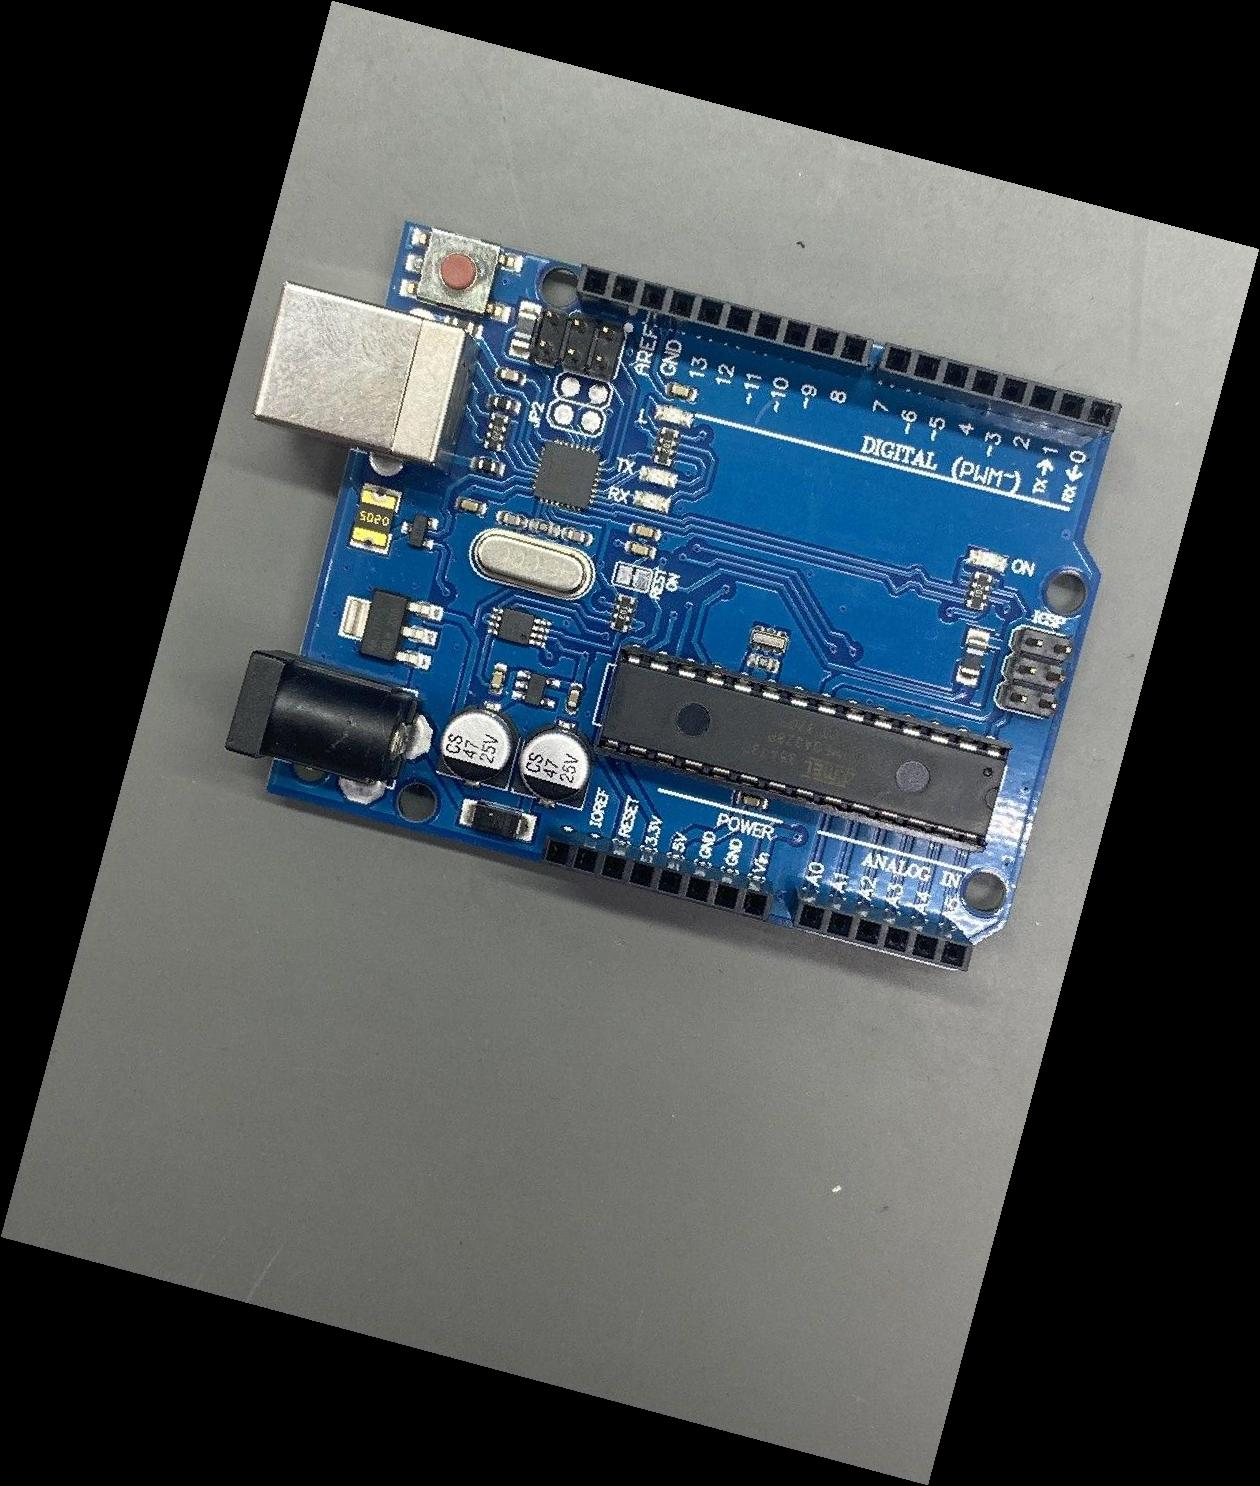ATmega328 chip: (596, 647, 1012, 851)
Arduino board: (224, 220, 1121, 971)
USB: (252, 280, 482, 474)
capacitor: (510, 716, 594, 807), (436, 704, 520, 790)
pins: (574, 261, 874, 381), (870, 341, 1121, 440), (540, 824, 775, 924), (786, 885, 975, 972)
resistor: (965, 570, 994, 611), (609, 592, 636, 634), (482, 412, 510, 452), (654, 426, 679, 466)
